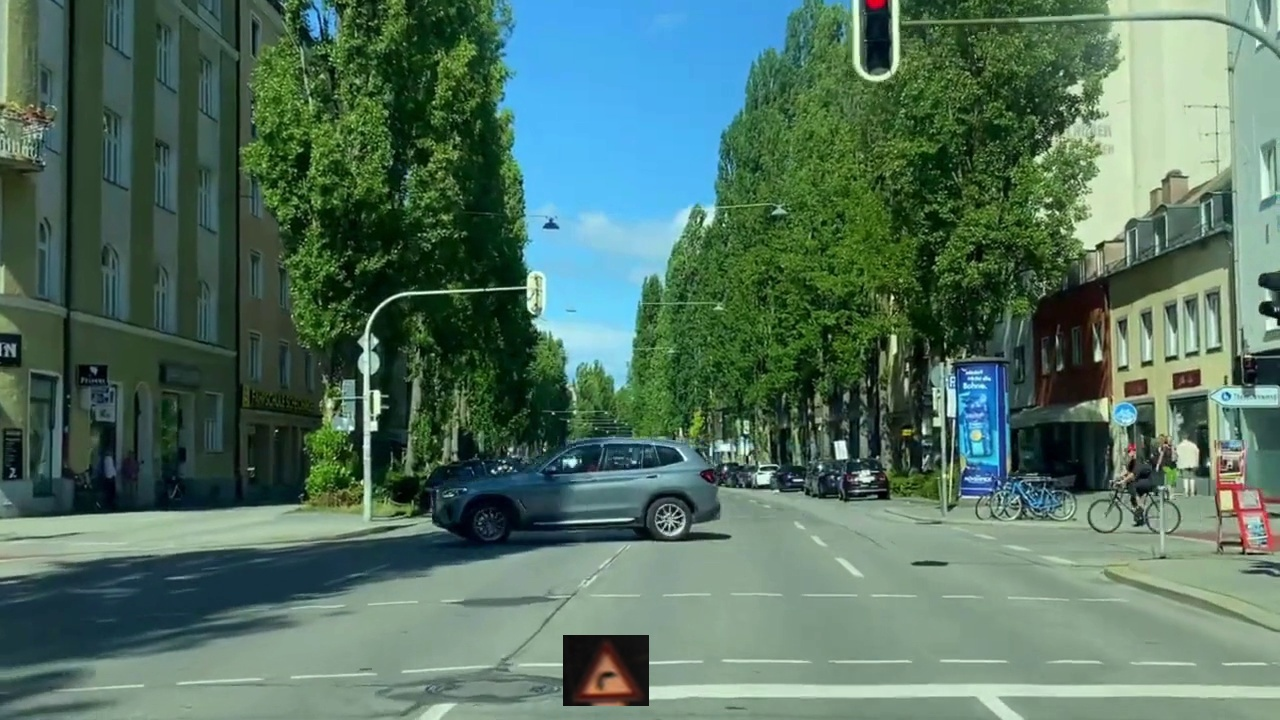Curve right: (563, 635, 649, 706)
